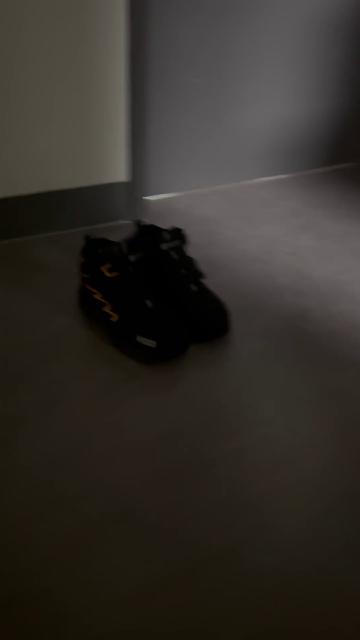shoe_worn: (118, 220, 235, 348), (76, 237, 188, 366)
